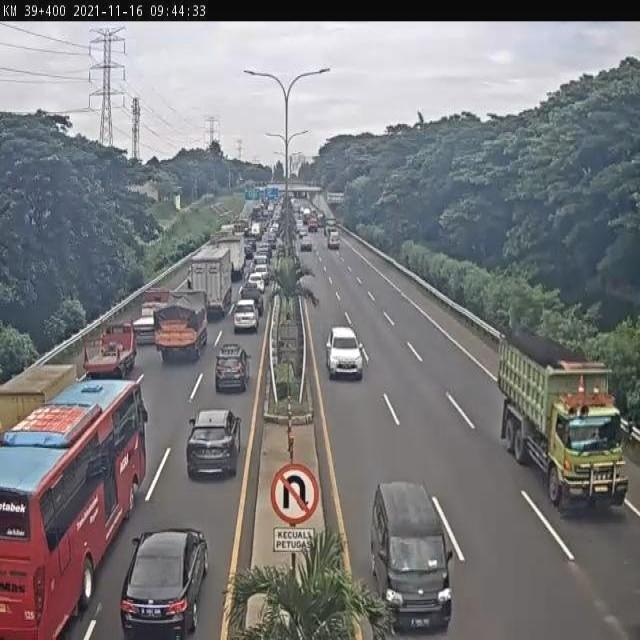Bus: (0, 376, 150, 640), (0, 362, 80, 434)
Car: (119, 527, 208, 637), (185, 406, 241, 478), (325, 325, 364, 381), (214, 343, 251, 392), (232, 299, 260, 332), (252, 263, 270, 286), (248, 272, 265, 294), (300, 236, 312, 252), (244, 244, 254, 261), (247, 238, 257, 252), (317, 212, 325, 225), (299, 228, 307, 240), (296, 224, 303, 234)
Truck: (498, 329, 627, 511), (152, 288, 211, 365), (82, 318, 139, 376), (187, 246, 232, 319), (130, 285, 172, 348), (214, 234, 247, 280), (326, 231, 341, 251), (324, 217, 338, 237), (251, 221, 262, 240), (308, 215, 318, 233)
Van: (370, 481, 452, 630)
